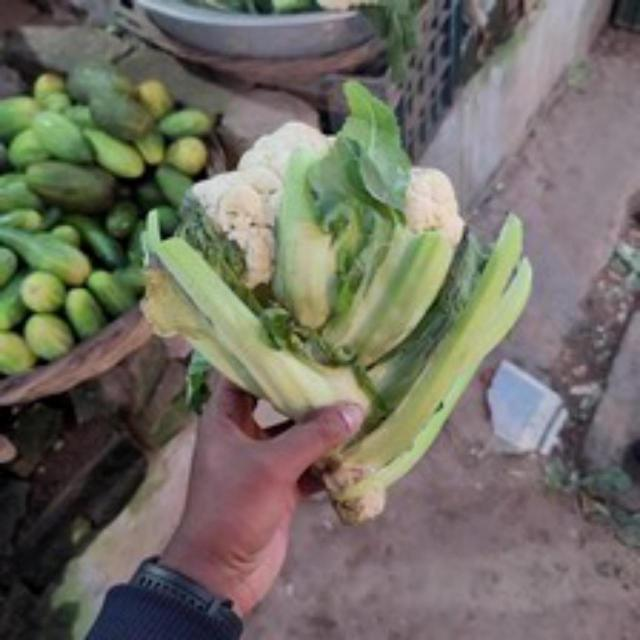cauliflower: (158, 102, 480, 284)
